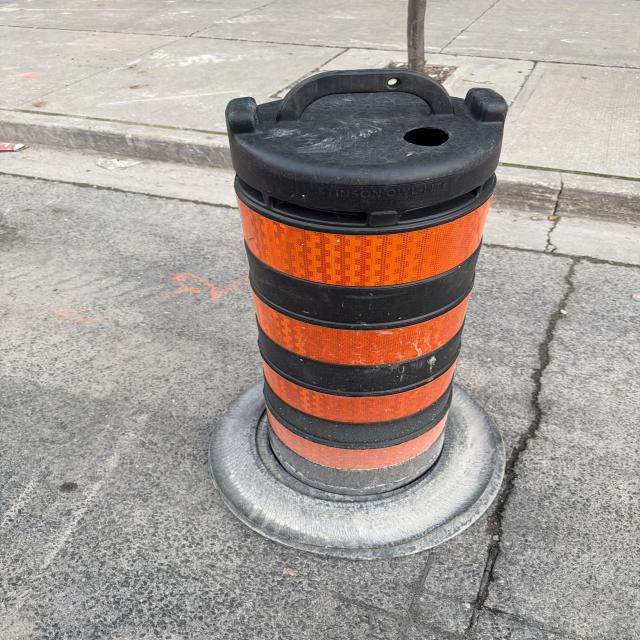Teraffic Barrel: (211, 69, 507, 557)
